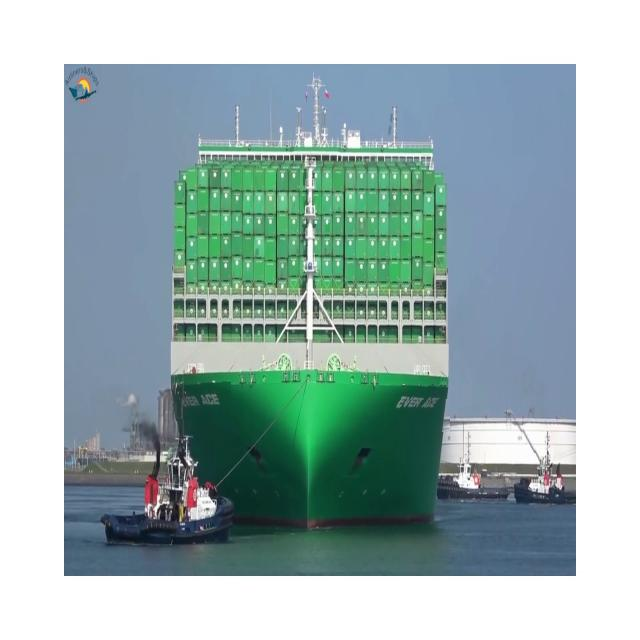OCR: (387, 384, 451, 434), (172, 380, 231, 421)
